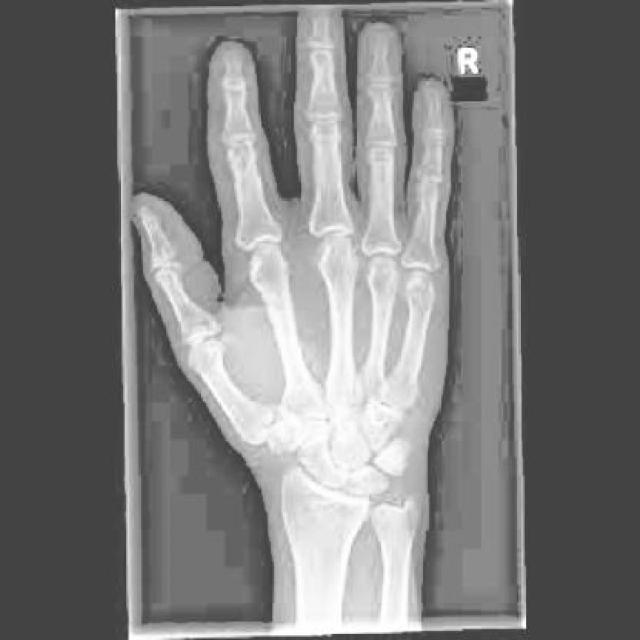Fracture: (248, 396, 290, 445)
